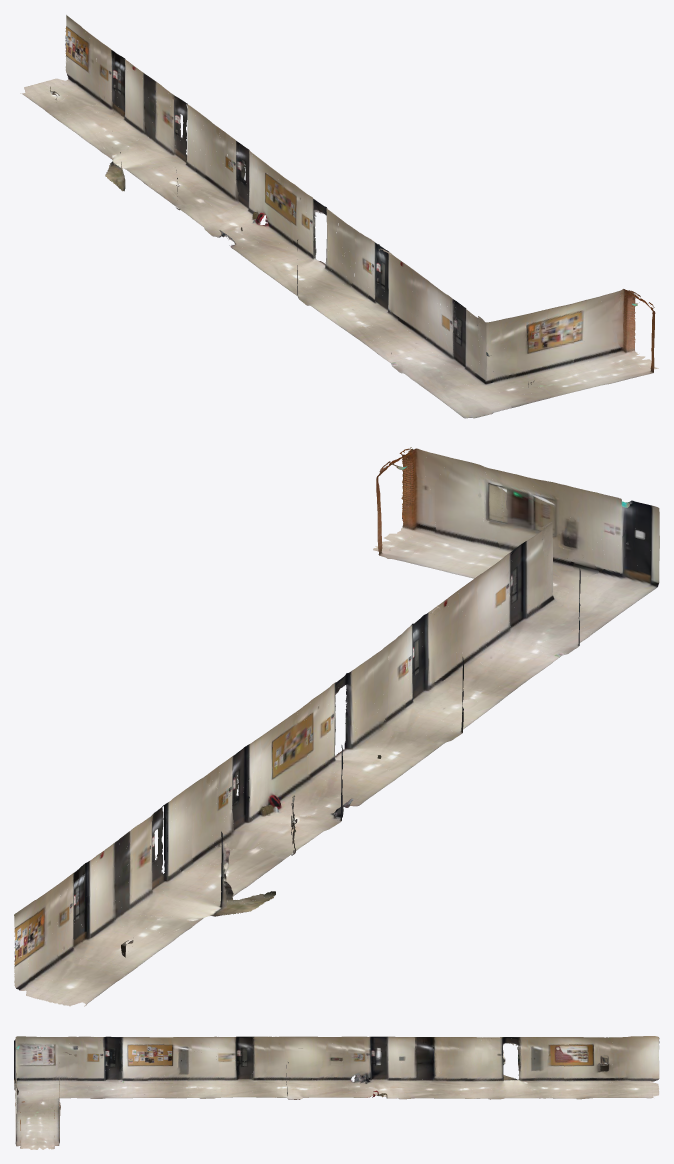
Rendered from left2.glb.
3 renders of one model, top to bottom at view 1: azimuth 30°, elevation 25°; view 2: azimuth 150°, elevation 25°; view 3: azimuth 270°, elevation 25°, orthographic. The views are drawn at different scales.
Parts seen in each view (by area): view 1: left2_F2; view 2: left2_F2; view 3: left2_F2.
Boxes of the visible parts, x1,y1,x2,y2 form: left2_F2: [20, 15, 658, 418]; left2_F2: [14, 447, 659, 1006]; left2_F2: [14, 1036, 659, 1149].
Bounding box in the file's own units: 9.72 × 2.83 × 34.38.
Materials: 1 (1 with a texture image).
